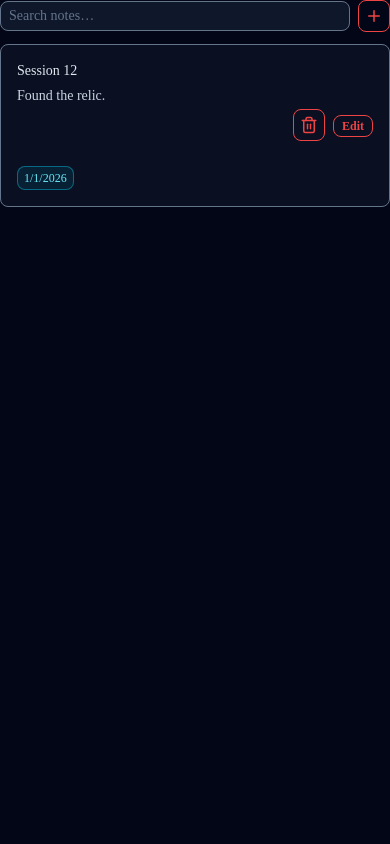
NotesTab editing and deleting › opens an entry for editing, pre-filled, and saves changes
Click the button "Edit" at x=353, y=126, box [333,115,373,137]
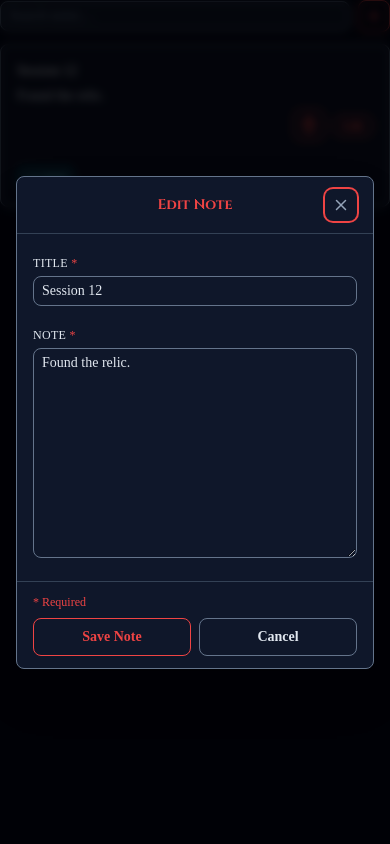
Expected: the field with placeholder "e.g. Session 12, Inquisitor Varn…" holds "Session 12"
Replace the text in the field with placeholder "e.g. Session 12, Inquisitor Varn…" with "Session 12 (updated)" at x=195, y=290, box [33,276,357,306]
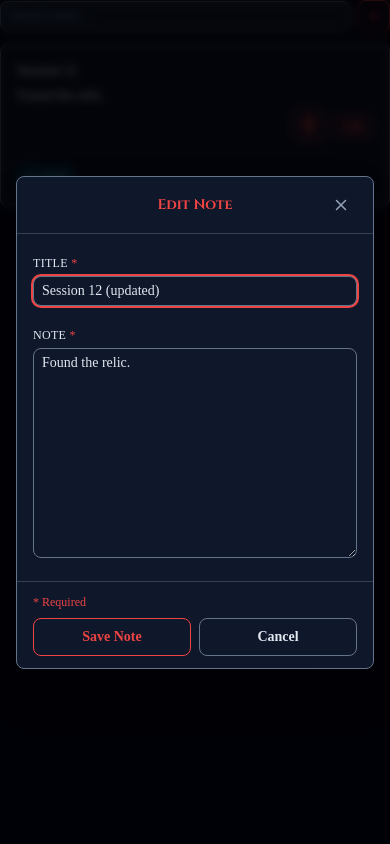
Click the button "Save Note" at x=112, y=636, box [33,618,191,656]
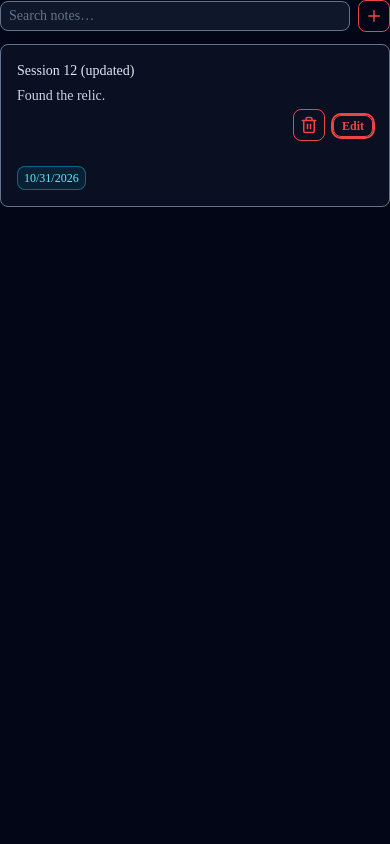
Expected: the text "Session 12 (updated)" is shown, [17,61,134,81]
